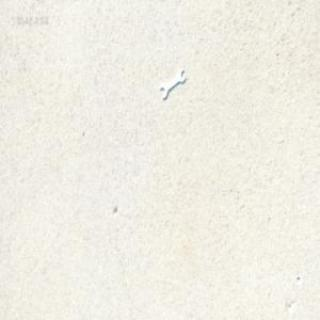Wrenchtrack_idkeyframe: (160, 70, 185, 102)
